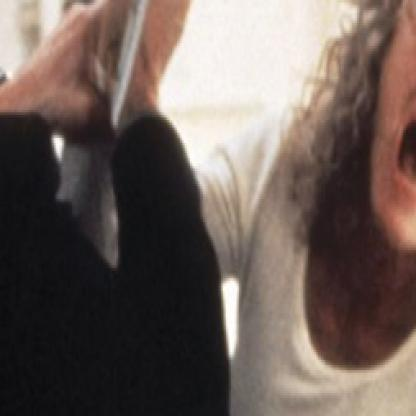knife: (93, 0, 207, 141)
